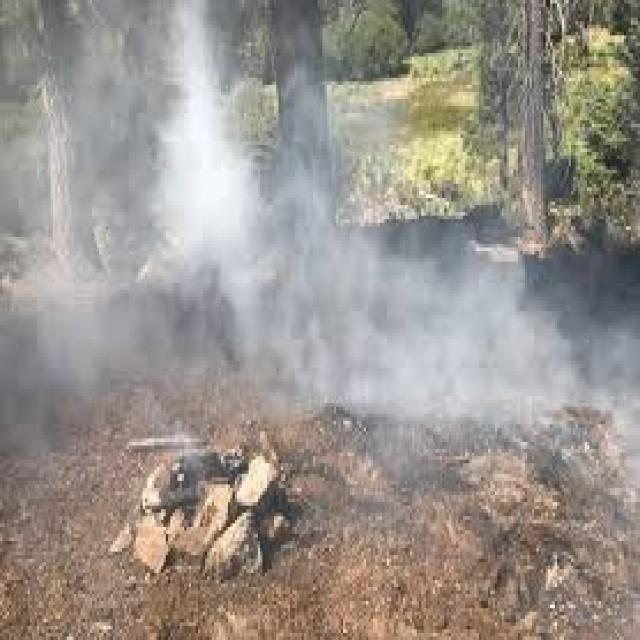Smoke: (0, 0, 387, 417), (0, 226, 628, 441)
